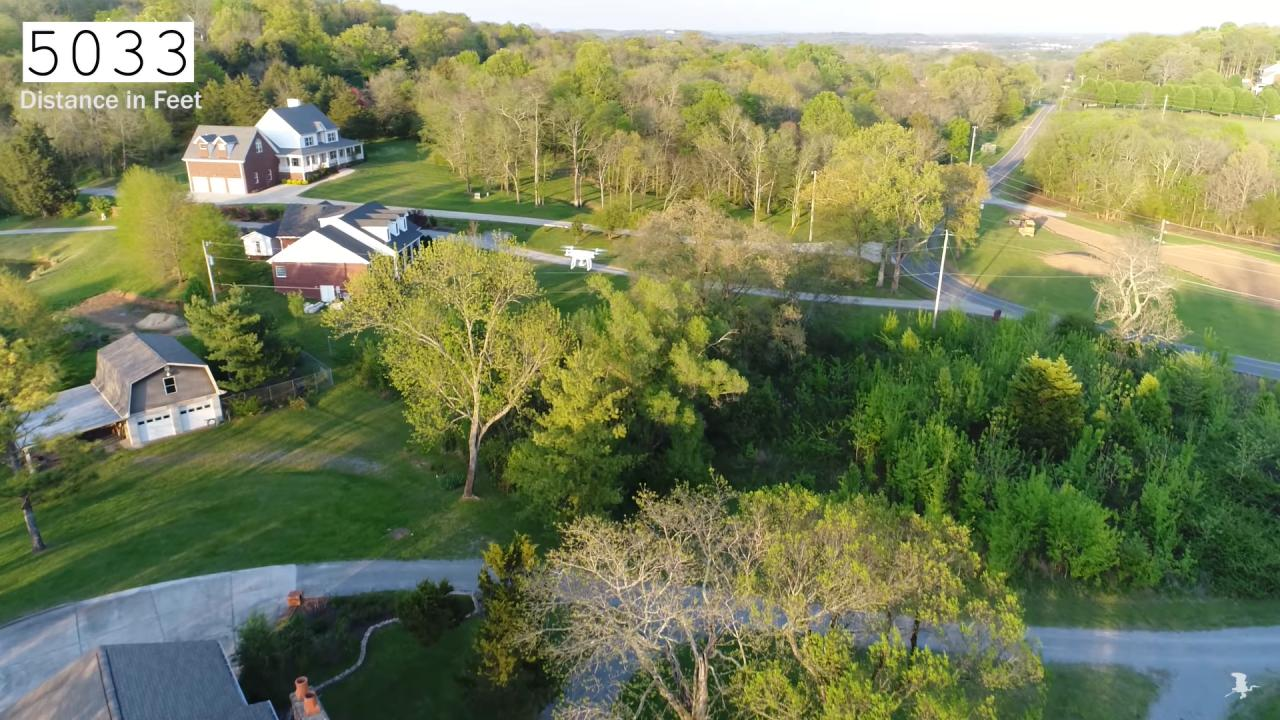Drone: (552, 236, 615, 279)
